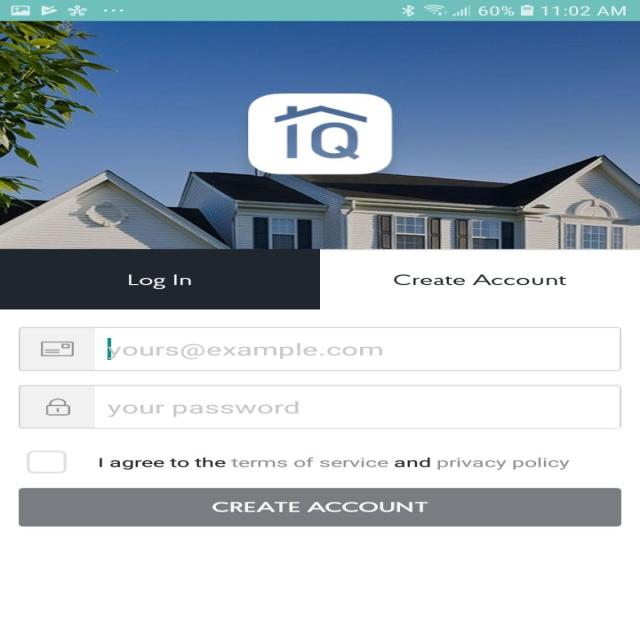EditText: (19, 326, 622, 371), (18, 384, 620, 428)
Icon: (40, 340, 74, 357), (46, 398, 70, 416)
Image: (0, 21, 639, 249), (247, 94, 391, 174)
Text: (99, 457, 569, 470), (108, 342, 382, 359), (108, 401, 298, 417), (393, 273, 566, 285)
TextButton: (18, 487, 620, 526), (0, 249, 320, 309)
